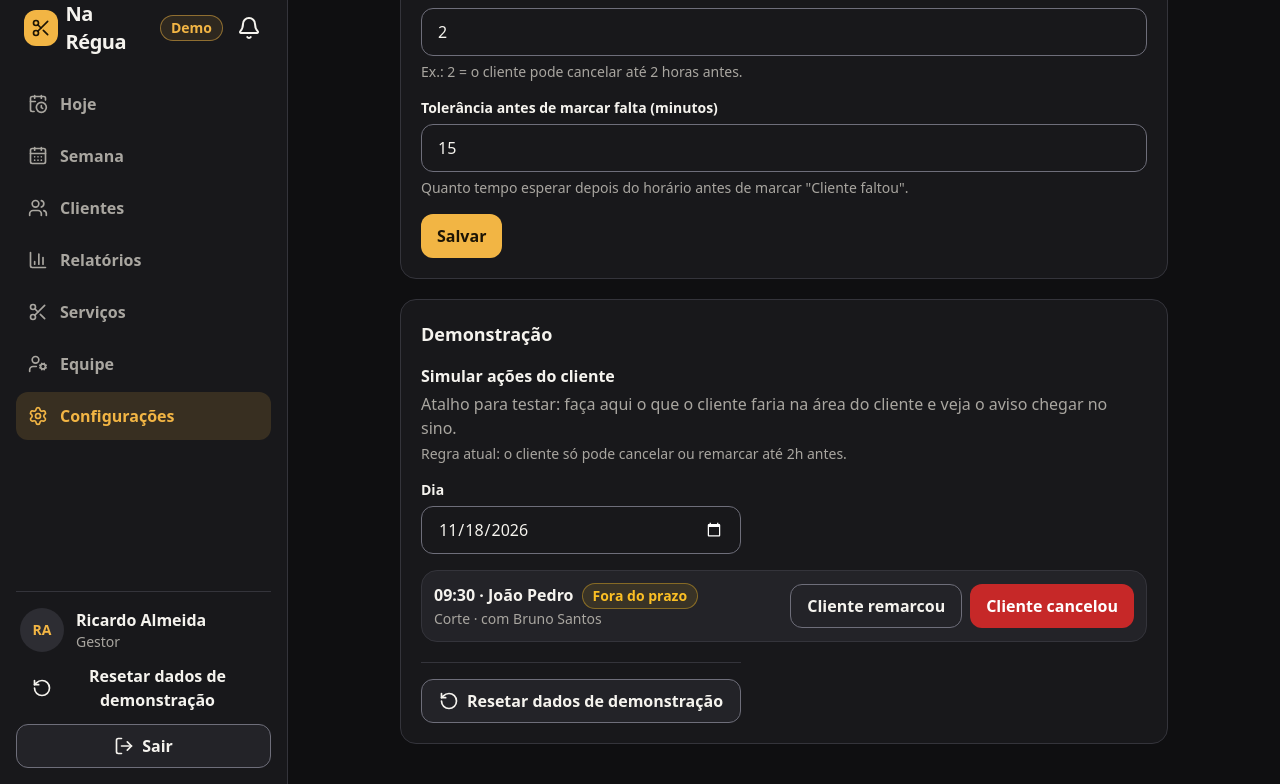
Test: SettingsPage › refuses a change after the notice period with a friendly message
The width and height of the screenshot is (1280, 784).
(page scrolled)
Expected: the text "Fora do prazo" is shown, [582, 583, 698, 609]
What coordinates should you click on to do the following:
click the button with aria-label "cancela o horário"
I would click on:
 (1052, 606)
Its box is [970, 584, 1134, 628].
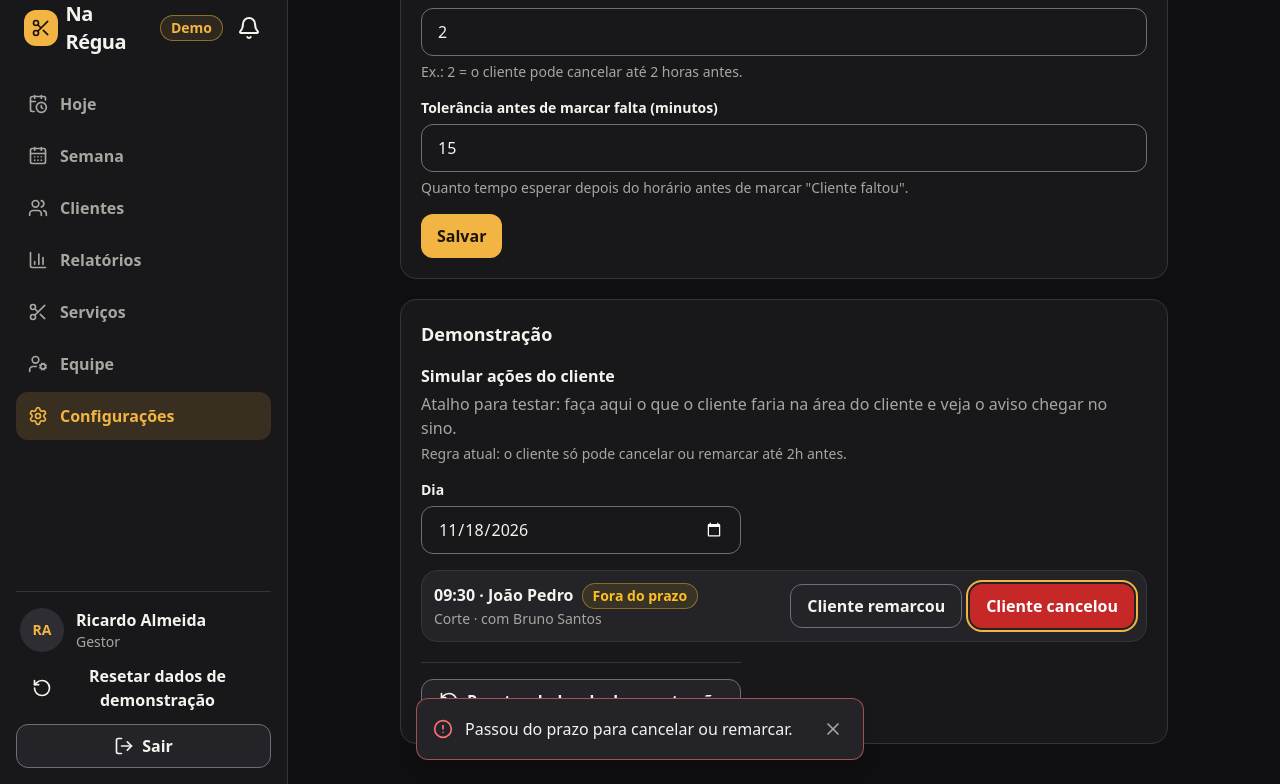
Expected: the button named "Avisos" is shown, [227, 6, 271, 50]
Result: the text "Passou do prazo para cancelar ou remarcar." is shown at [465, 717, 799, 741]
